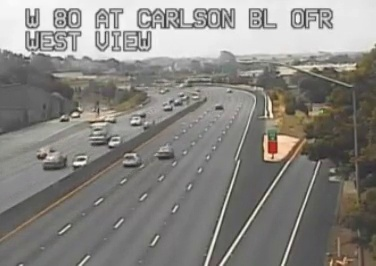car: (122, 152, 141, 167), (156, 147, 174, 159)
